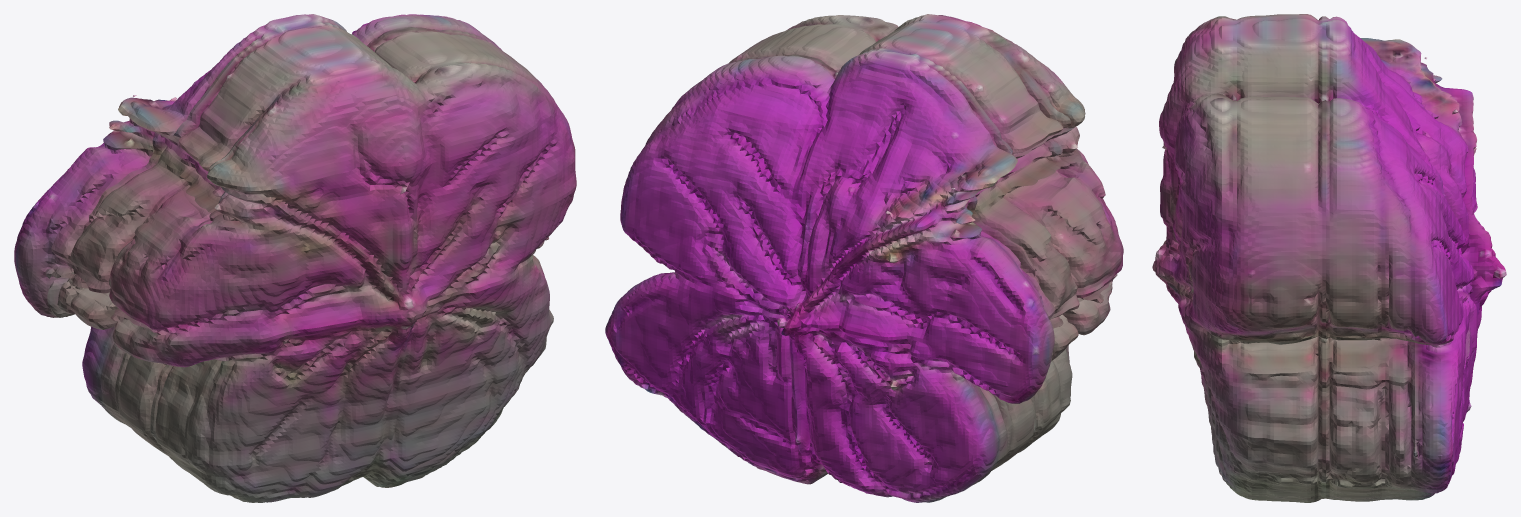
The picture shows the model from 3 angles, left to right: view 1: azimuth 30°, elevation 25°; view 2: azimuth 150°, elevation 25°; view 3: azimuth 270°, elevation 25°; orthographic projection. The views are drawn at different scales.
Visible parts, largest first — view 1: world; view 2: world; view 3: world.
Boxes of the visible parts, x1,y1,x2,y2 form: world: (14,14,576,502); world: (605,14,1123,502); world: (1152,14,1506,502).
Size of the model in its own units: 0.9755 by 0.8777 by 0.6516.
